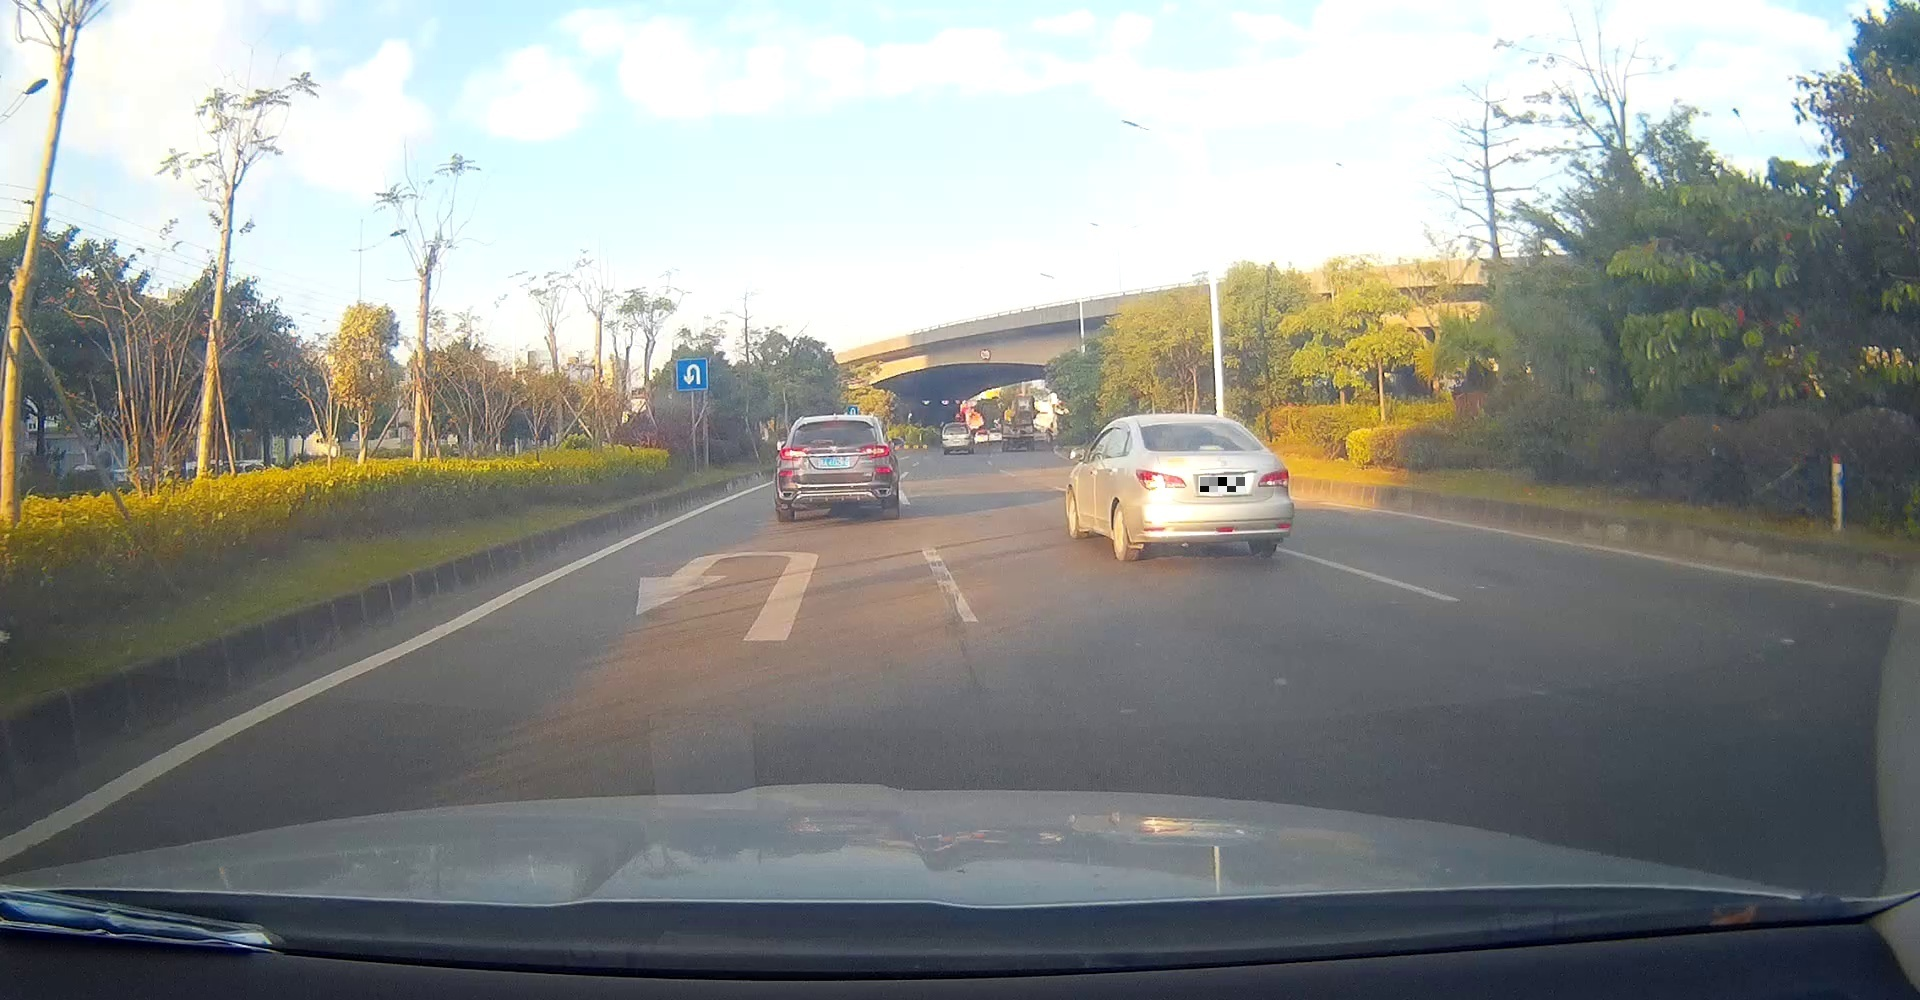L_light: (1134, 468, 1187, 490), (778, 447, 811, 459)
R_light: (1257, 468, 1290, 489), (858, 445, 890, 457)
T_light: (1197, 444, 1224, 451), (825, 421, 848, 425)
day-no: (1134, 414, 1295, 560), (775, 415, 899, 522)
plate_1: (1200, 477, 1244, 492)
